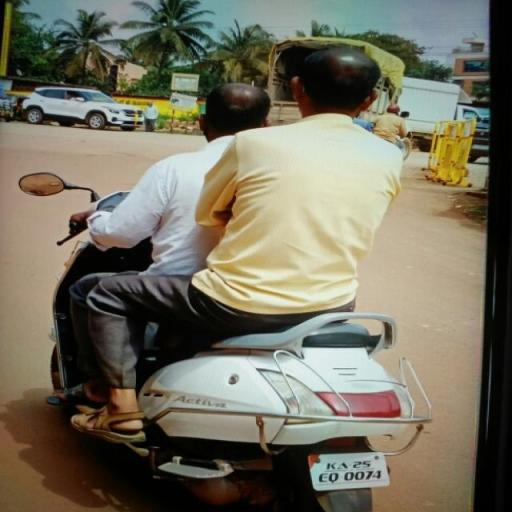bike: (10, 40, 435, 512)
numberplate: (308, 450, 392, 489)
withouthelmet: (298, 46, 372, 116), (205, 85, 266, 134)
